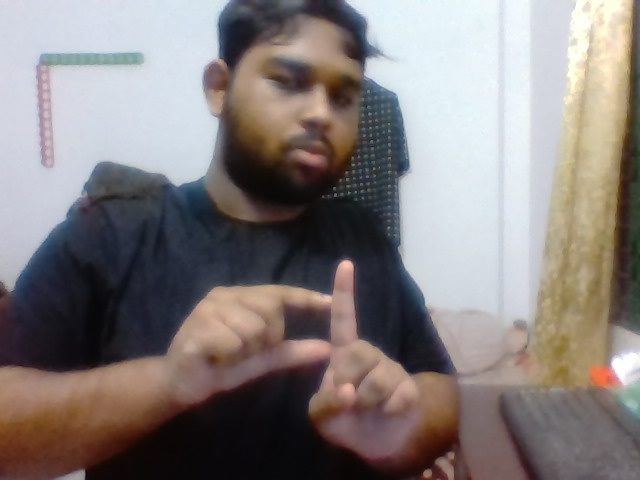D: (175, 242, 422, 451)
